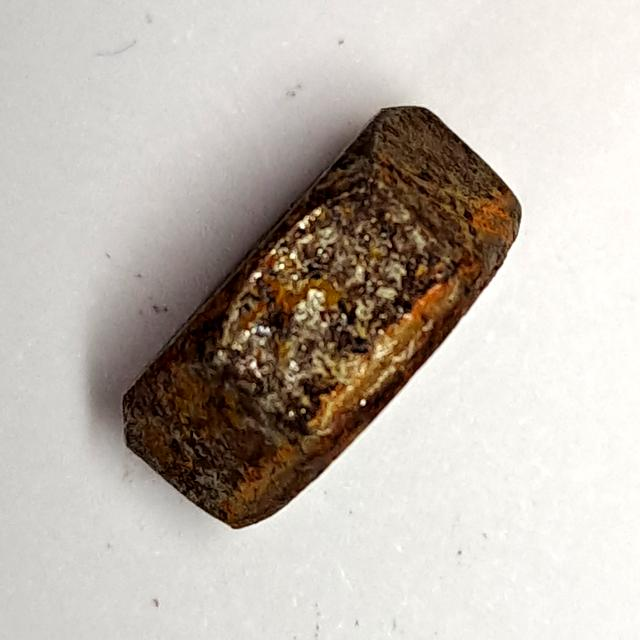Side_Rust: (102, 92, 533, 544)
